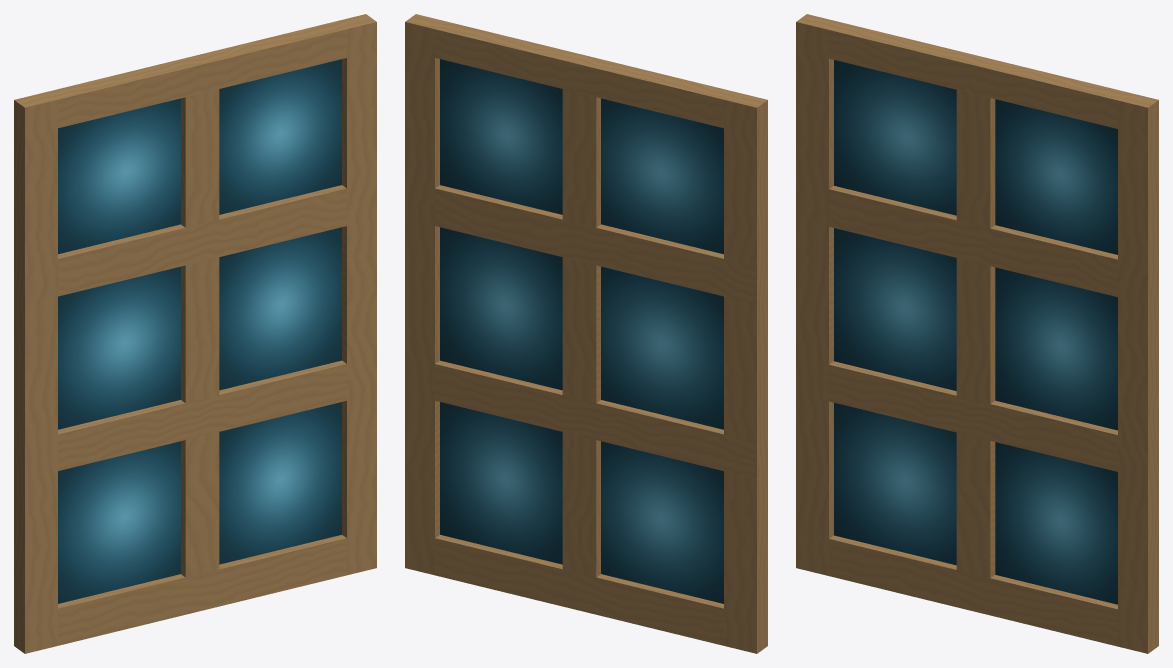
Rendered from Window_Medium_A.FBX.
3 renders of one model, left to right at view 1: azimuth 30°, elevation 25°; view 2: azimuth 150°, elevation 25°; view 3: azimuth 330°, elevation 25°, orthographic.
Visible parts, largest first — view 1: Window_Rectangular; view 2: Window_Rectangular; view 3: Window_Rectangular.
Part boxes in pixels (box(x1,y1,x2,y2)): Window_Rectangular: box(14, 14, 376, 653); Window_Rectangular: box(405, 14, 767, 653); Window_Rectangular: box(796, 14, 1158, 653).
Size of the model in its own units: 150 by 222 by 8.
